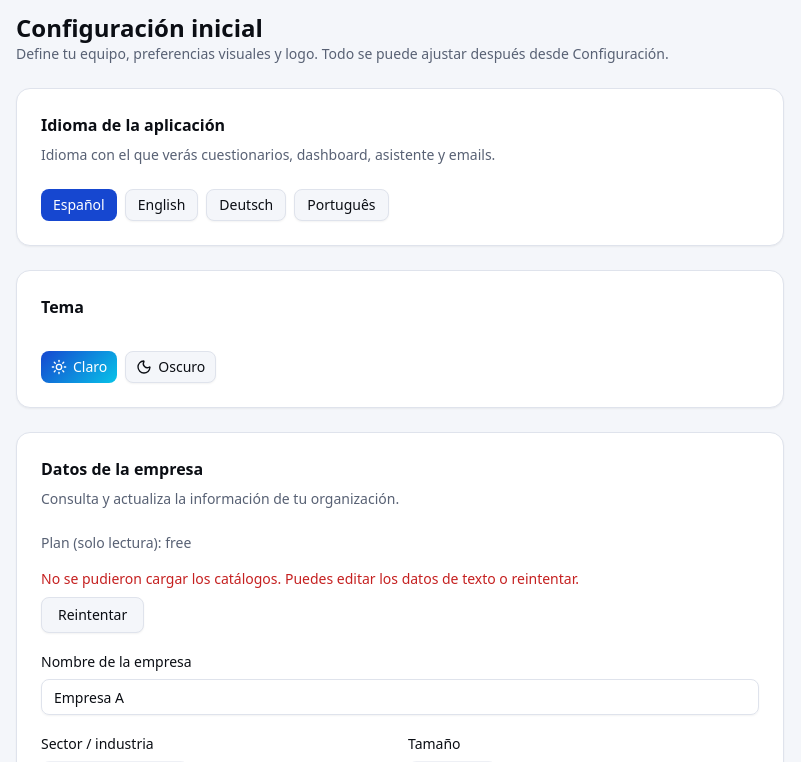
Settings organization profile › still displays organization data if metadata fails and retries catalogs independently
expect the message shows "No se pudieron cargar los catálogos": met, box top-left (41, 569), bottom-right (579, 588)
expect the field labelled "Nombre de la empresa" is enabled: met, box top-left (41, 679), bottom-right (759, 715)
Click the button "Reintentar": (93, 615) top-left (41, 597), bottom-right (144, 633)
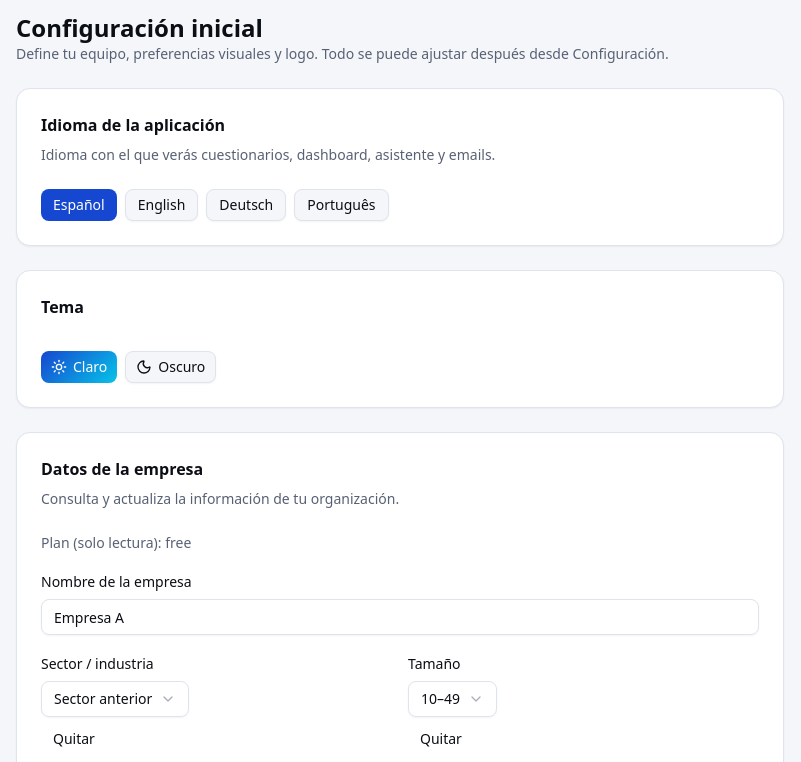
expect the dropdown named "Sector / industria" is enabled: met, box top-left (41, 681), bottom-right (189, 717)
